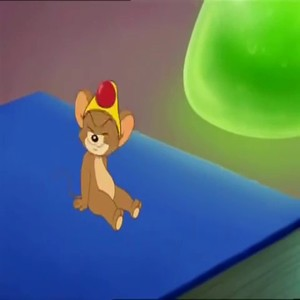Jerry: (50, 82, 150, 227)
